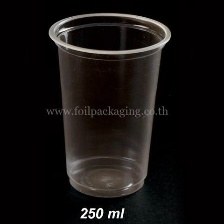glass: (45, 8, 174, 200)
